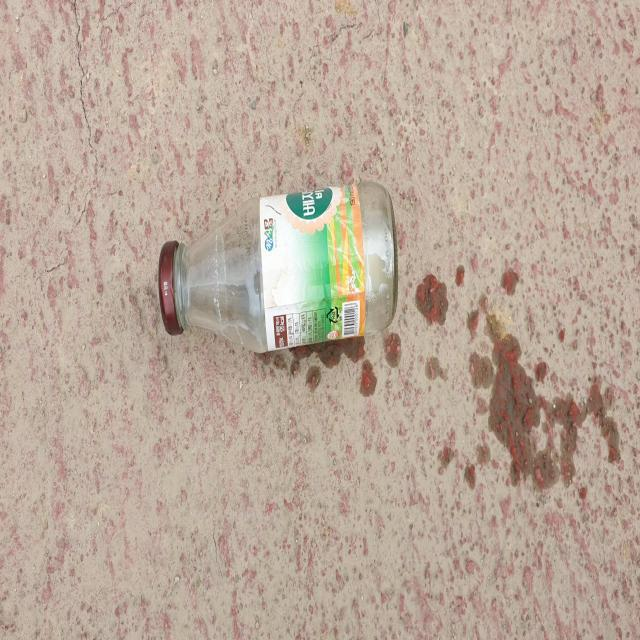glass: (158, 181, 398, 352)
